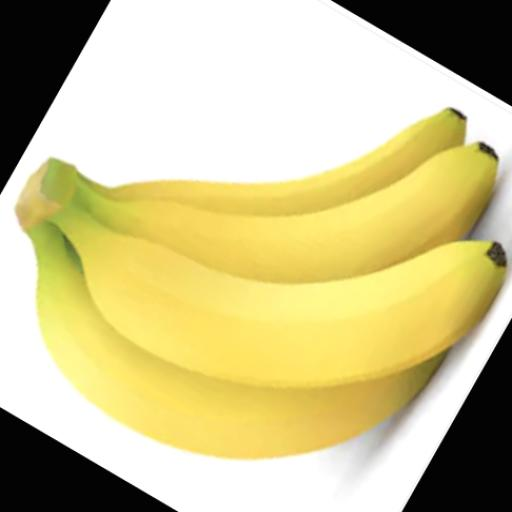banana-ripe: (0, 18, 512, 512)
